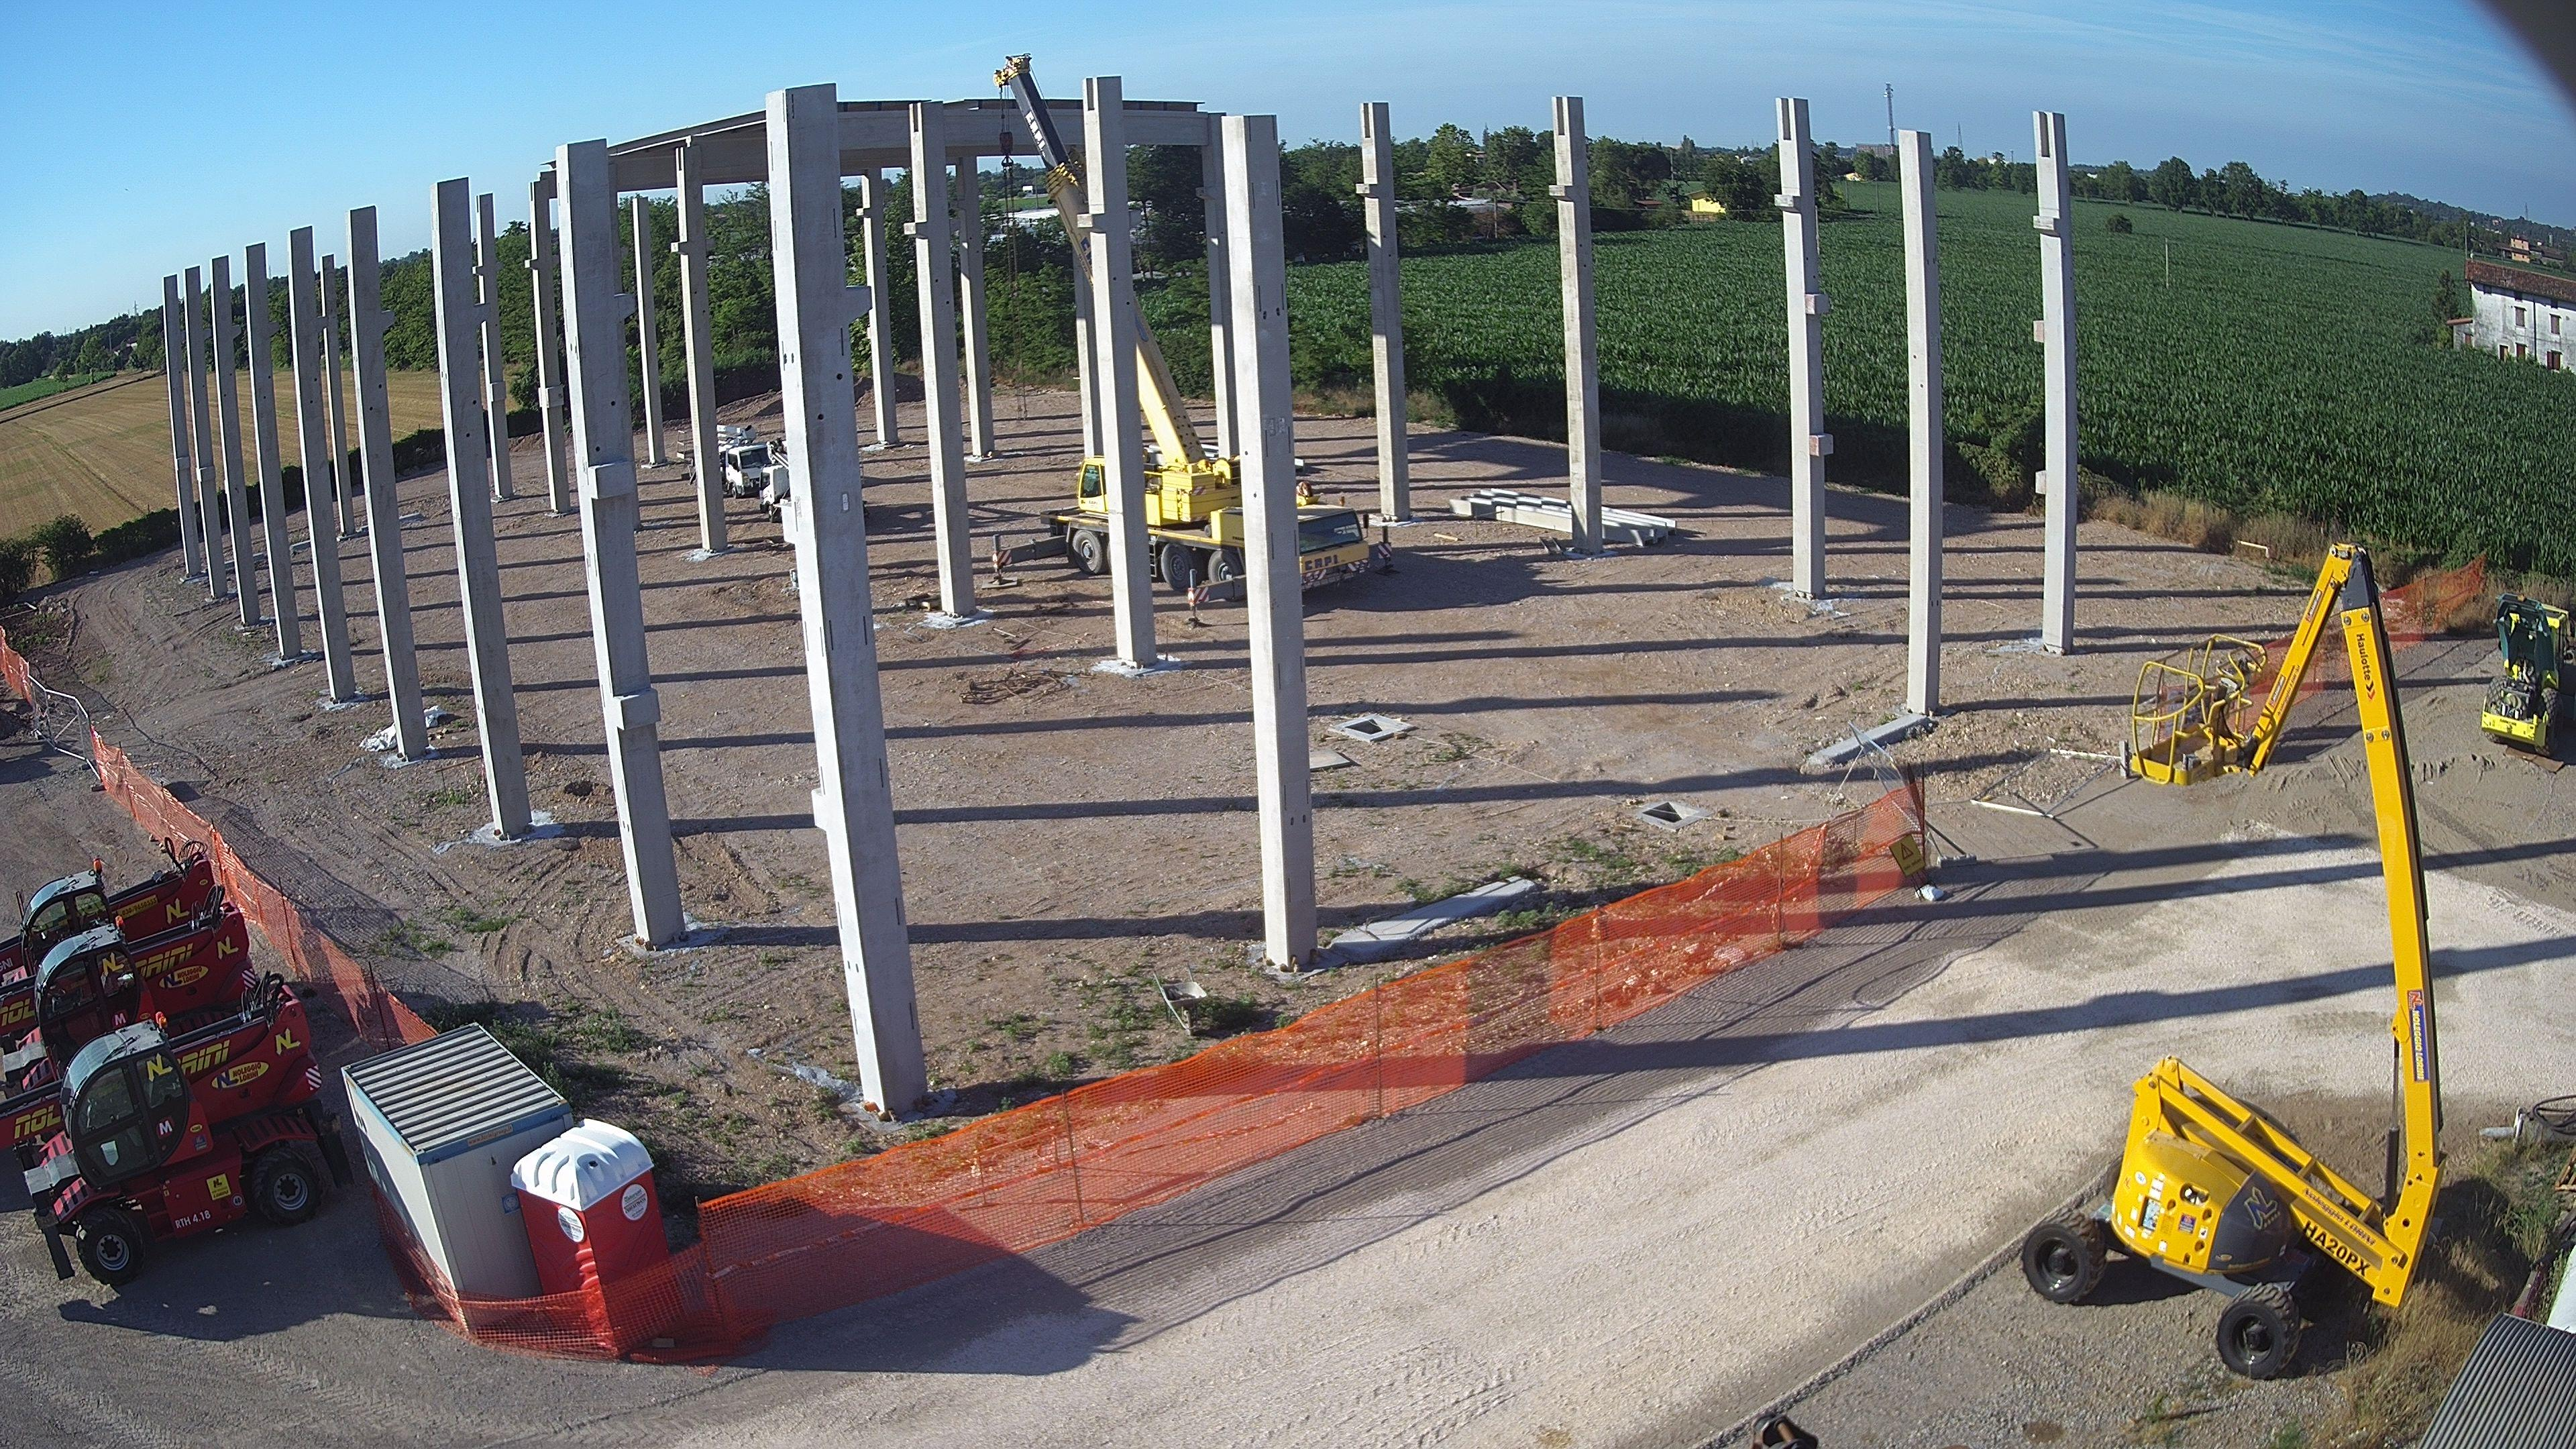Aerial platforms: (2024, 541, 2447, 1382), (717, 425, 773, 501), (763, 437, 791, 522), (678, 428, 697, 487)
excavator: (0, 973, 357, 1286), (0, 881, 262, 1099), (0, 839, 228, 1049), (1134, 290, 1251, 630), (994, 51, 1093, 285), (982, 455, 1109, 586), (1295, 485, 1396, 598)
